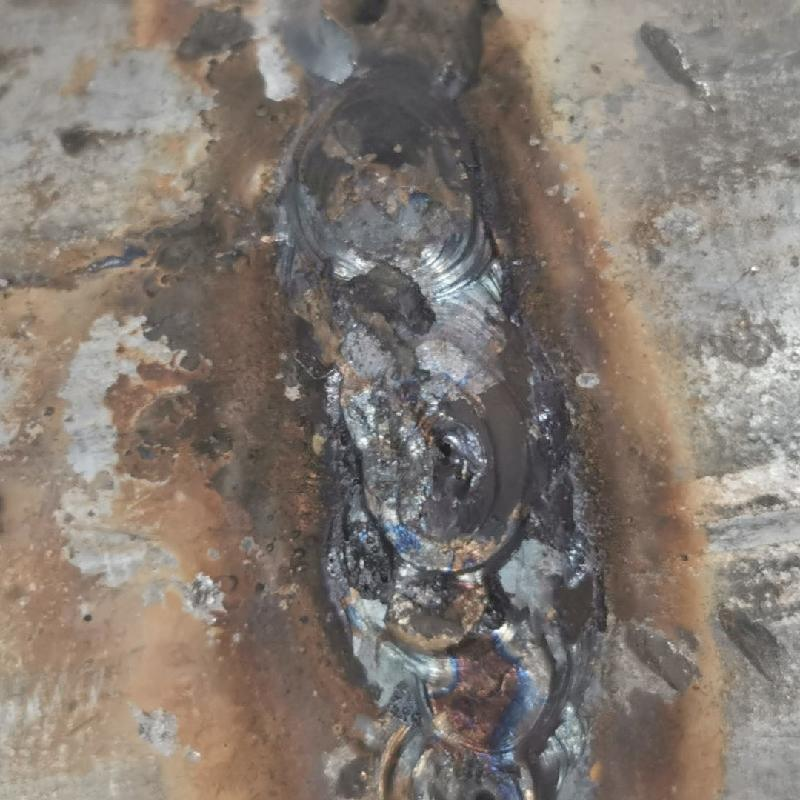Surface_pores: (419, 410, 473, 485)
crater: (333, 342, 565, 797)
